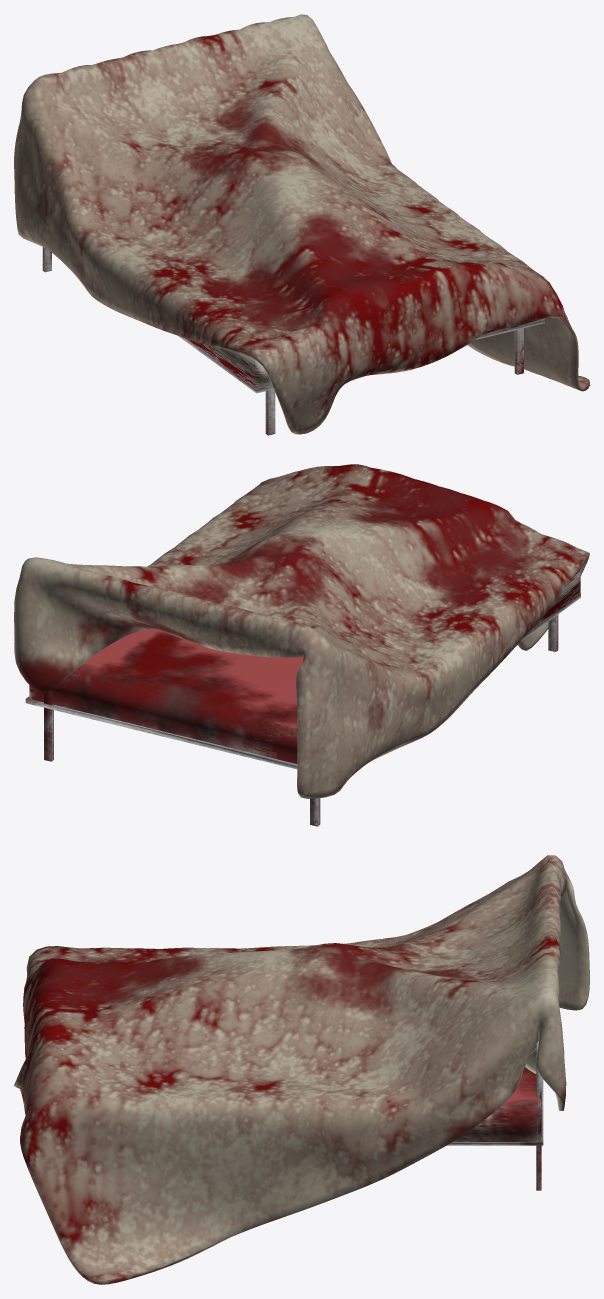
File: horror_bloody_bed.glb
3 renders of one model, top to bottom at view 1: azimuth 30°, elevation 25°; view 2: azimuth 150°, elevation 25°; view 3: azimuth 270°, elevation 25°, orthographic. The views are drawn at different scales.
Visible parts, largest first — view 1: Plane, Cube, Plane.003; view 2: Plane, Cube, Plane.002, Plane.003; view 3: Plane, Cube, Plane.002.
Boxes of the visible parts, x1,y1,x2,y2 form: Plane: [14, 14, 589, 434]; Cube: [186, 318, 544, 389]; Plane.003: [42, 247, 523, 435]; Plane: [14, 464, 589, 798]; Cube: [29, 569, 580, 763]; Plane.002: [25, 593, 580, 769]; Plane.003: [44, 614, 558, 826]; Plane: [14, 855, 589, 1284]; Cube: [453, 1067, 540, 1141]; Plane.002: [447, 1078, 543, 1145].
Bounding box in the file's own units: 5.77 × 3.48 × 7.13.
Materials: 2 (2 with a texture image).
